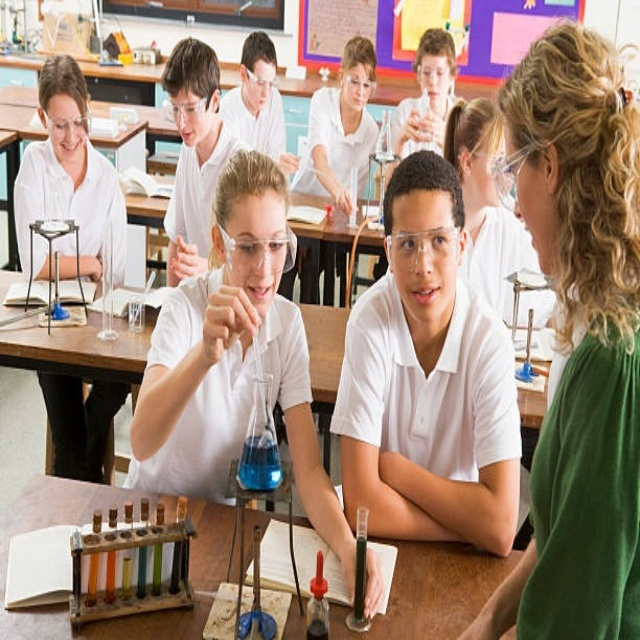Gafas: (217, 221, 292, 272), (488, 141, 541, 210), (387, 226, 461, 270), (42, 107, 91, 139), (166, 93, 211, 125), (246, 66, 279, 90), (344, 73, 376, 94), (418, 65, 451, 82)
Sin_guantes: (202, 281, 261, 365), (356, 543, 387, 621), (166, 231, 207, 285), (407, 107, 436, 146)
Sin_mascara: (520, 213, 552, 267), (408, 276, 441, 311), (246, 278, 276, 304), (178, 127, 199, 144), (59, 140, 77, 157), (254, 94, 270, 108), (427, 86, 439, 104), (349, 96, 363, 111)
